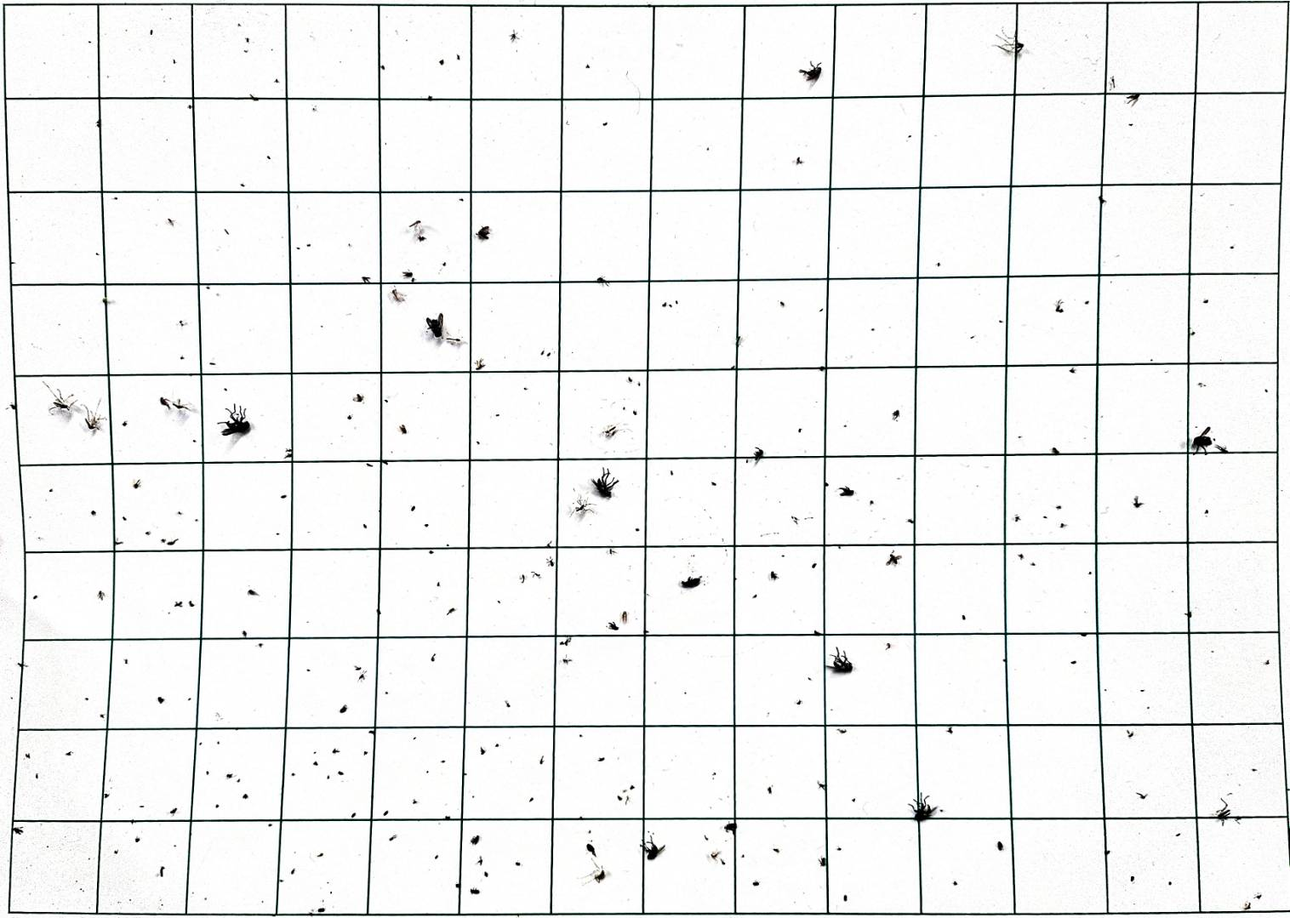fly: (219, 404, 251, 435), (590, 467, 620, 499), (908, 795, 941, 821), (829, 644, 853, 671), (424, 313, 445, 340), (1191, 426, 1212, 453), (800, 62, 823, 84), (642, 839, 665, 860)
test: (41, 380, 79, 414), (992, 27, 1026, 57), (80, 397, 107, 432), (158, 394, 196, 417), (567, 490, 598, 518), (577, 864, 609, 887), (1213, 799, 1236, 823), (706, 846, 726, 865), (679, 575, 702, 589), (475, 224, 491, 241), (886, 550, 903, 566), (390, 288, 407, 303), (444, 334, 465, 346), (750, 447, 764, 464), (353, 664, 367, 681), (837, 485, 855, 497), (604, 424, 618, 438), (1124, 94, 1140, 106), (160, 396, 174, 409), (724, 820, 736, 835), (401, 269, 415, 281), (586, 842, 597, 857), (1132, 496, 1145, 508), (474, 358, 486, 370), (509, 30, 520, 43), (596, 275, 609, 286), (408, 220, 422, 230), (1054, 299, 1064, 313), (409, 221, 424, 230), (560, 636, 572, 647), (518, 572, 529, 584), (530, 571, 543, 581), (620, 610, 629, 624), (12, 825, 24, 835), (734, 334, 743, 347), (101, 297, 115, 305), (1216, 445, 1230, 453), (470, 834, 480, 845), (132, 478, 142, 489), (353, 393, 364, 403), (790, 515, 800, 526), (661, 300, 672, 310), (891, 409, 900, 421), (818, 855, 827, 867), (6, 401, 18, 410), (606, 547, 618, 556), (163, 538, 178, 545), (769, 570, 779, 580), (630, 409, 640, 419), (607, 621, 618, 630), (339, 703, 348, 714), (546, 556, 555, 567), (415, 235, 426, 244), (247, 588, 259, 596), (1136, 791, 1148, 799), (157, 865, 165, 877), (16, 661, 29, 668), (1109, 76, 1116, 89), (794, 156, 804, 165), (97, 590, 106, 600), (817, 780, 826, 790), (120, 419, 129, 429), (238, 181, 247, 191), (379, 63, 388, 73), (561, 656, 572, 664), (284, 446, 292, 457), (545, 540, 556, 548), (447, 607, 456, 616), (812, 629, 821, 638), (174, 509, 183, 518), (1099, 195, 1107, 205), (996, 840, 1004, 850), (1125, 729, 1135, 737), (399, 424, 407, 434), (1086, 570, 1096, 578), (578, 813, 586, 823), (622, 796, 632, 804), (1001, 658, 1012, 665), (1051, 446, 1060, 454), (167, 218, 175, 227), (1184, 610, 1193, 618), (249, 93, 258, 101), (368, 728, 377, 736), (578, 734, 587, 742), (841, 893, 849, 902), (951, 880, 960, 888), (1101, 849, 1110, 857), (796, 426, 805, 434), (625, 375, 634, 383), (521, 386, 530, 394), (344, 414, 353, 422), (295, 244, 304, 252), (426, 92, 434, 101), (346, 240, 354, 249), (374, 608, 382, 617), (519, 573, 526, 583), (470, 887, 480, 894), (626, 784, 636, 791), (1203, 508, 1210, 518), (1187, 330, 1197, 337), (120, 515, 130, 522), (223, 227, 230, 237), (110, 196, 120, 203), (438, 57, 445, 67), (946, 725, 954, 733), (157, 696, 165, 704), (169, 807, 177, 815), (443, 814, 451, 822), (795, 700, 803, 708), (884, 641, 892, 649), (822, 480, 830, 488), (145, 529, 153, 537), (264, 153, 272, 161), (906, 134, 914, 142), (1243, 900, 1250, 909), (362, 276, 371, 283), (837, 727, 846, 734), (178, 320, 187, 327), (504, 702, 513, 709), (615, 794, 624, 801), (809, 561, 818, 568), (1255, 894, 1264, 901), (1031, 561, 1038, 570), (935, 260, 942, 269), (538, 349, 547, 356), (410, 505, 419, 512), (169, 57, 178, 64), (1126, 122, 1135, 129), (430, 652, 436, 662), (750, 594, 760, 600), (274, 531, 284, 537), (1014, 514, 1021, 522), (1017, 553, 1025, 560), (115, 538, 123, 545), (240, 631, 248, 638), (317, 852, 324, 860), (453, 883, 461, 890), (483, 871, 490, 879), (539, 756, 546, 764), (598, 757, 606, 764), (849, 797, 857, 804), (1080, 631, 1088, 638), (908, 519, 916, 526), (709, 480, 717, 487), (817, 365, 825, 372), (473, 439, 481, 446), (366, 462, 374, 469), (193, 517, 201, 524), (46, 487, 54, 494), (222, 387, 230, 394), (94, 250, 101, 258), (311, 105, 319, 112), (243, 47, 251, 54), (244, 36, 252, 43), (236, 20, 244, 27), (86, 38, 94, 45), (494, 599, 502, 606), (174, 601, 183, 607), (767, 785, 773, 794), (1058, 522, 1067, 528), (95, 119, 101, 128), (258, 641, 264, 650), (1173, 832, 1182, 838), (493, 412, 502, 418), (179, 353, 185, 362), (111, 850, 118, 857), (225, 772, 232, 779), (527, 795, 534, 802), (478, 748, 485, 755), (586, 829, 593, 836), (1167, 880, 1174, 887), (1198, 382, 1205, 389), (668, 470, 675, 477), (778, 300, 785, 307), (159, 537, 166, 544), (191, 438, 198, 445), (203, 284, 210, 291), (9, 259, 16, 266), (273, 76, 280, 83), (704, 146, 711, 153), (1101, 687, 1108, 694), (1263, 659, 1271, 665), (1069, 367, 1077, 373), (752, 880, 760, 886), (102, 792, 110, 798), (31, 594, 37, 602), (410, 799, 418, 805), (493, 742, 501, 748), (771, 847, 779, 853), (835, 845, 843, 851), (868, 499, 874, 507), (423, 523, 429, 531), (428, 548, 434, 556), (434, 580, 440, 588), (281, 493, 289, 499), (187, 102, 193, 110), (455, 53, 461, 61), (602, 120, 608, 128), (64, 752, 73, 757), (1070, 659, 1077, 665), (99, 714, 105, 721), (189, 601, 195, 608), (277, 877, 284, 883), (351, 812, 357, 819), (382, 810, 388, 817), (388, 835, 395, 841), (477, 858, 483, 865), (702, 835, 709, 841), (961, 614, 967, 621), (1042, 515, 1049, 521), (1055, 503, 1062, 509), (1262, 388, 1268, 395), (868, 326, 874, 333), (1201, 298, 1207, 305), (1016, 434, 1023, 440), (835, 545, 842, 551), (673, 299, 679, 306), (546, 351, 552, 358), (382, 458, 388, 465), (361, 521, 367, 528), (209, 359, 215, 366), (805, 676, 812, 682), (1145, 703, 1151, 710), (1130, 875, 1135, 883), (1251, 767, 1259, 772), (317, 908, 327, 912), (147, 29, 155, 34), (91, 510, 97, 516), (123, 659, 129, 665), (214, 803, 220, 809), (290, 868, 296, 874), (331, 750, 340, 754), (411, 735, 417, 741), (779, 553, 785, 559), (817, 307, 826, 311), (441, 261, 447, 267), (842, 422, 848, 428), (383, 398, 389, 404), (514, 861, 521, 866), (137, 803, 144, 808), (711, 770, 716, 777), (1139, 687, 1144, 694), (621, 406, 628, 411), (458, 197, 465, 202), (444, 542, 451, 547), (133, 837, 141, 841), (25, 753, 30, 759), (83, 696, 89, 701), (215, 740, 221, 745), (242, 793, 247, 799), (235, 778, 240, 784), (325, 774, 331, 779), (338, 771, 344, 776), (363, 750, 368, 756), (305, 667, 311, 672), (434, 853, 439, 859), (462, 772, 468, 777), (740, 854, 746, 859), (1228, 244, 1234, 249), (306, 241, 310, 248), (584, 65, 591, 69), (633, 528, 642, 531), (186, 696, 191, 701), (998, 319, 1003, 324), (289, 771, 295, 775), (311, 750, 317, 754), (968, 334, 974, 338), (311, 761, 318, 764), (198, 740, 202, 745), (268, 823, 273, 827), (424, 770, 429, 774), (1084, 300, 1089, 304), (204, 770, 208, 774), (383, 691, 387, 695), (35, 774, 38, 779), (440, 760, 445, 763)
